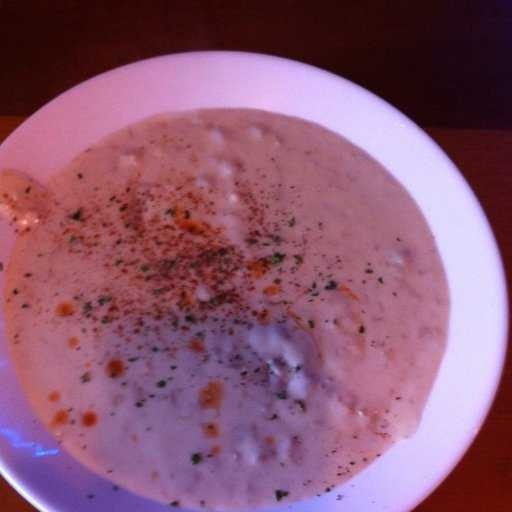soup: (4, 106, 466, 506)
